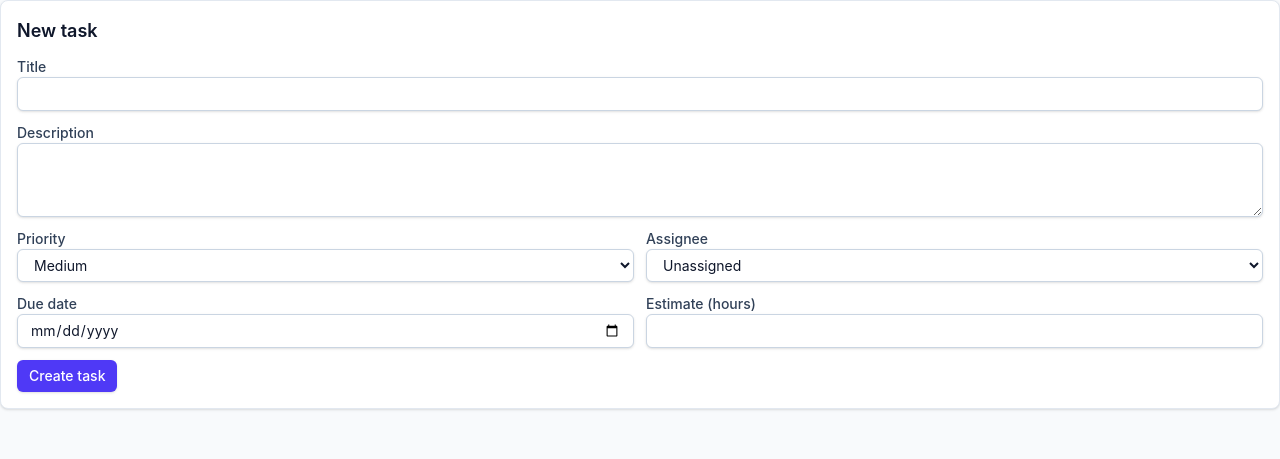
Test: CreateTaskForm validation › clears old errors once the input is valid
Click the button "Create task".
click(67, 376)  # box [17,360,118,392]
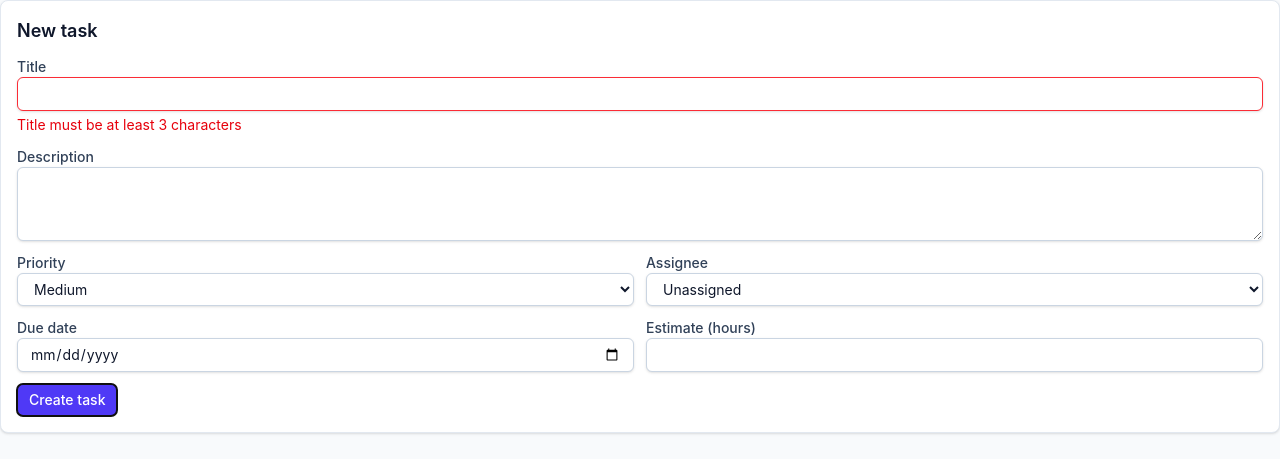
Check: the text "Title must be at least 3 characters" is shown, box [17,116,242,133]
Type "Valid title" into the field labelled "Title".
click(640, 94); type("Valid title")  # box [17,77,1263,111]
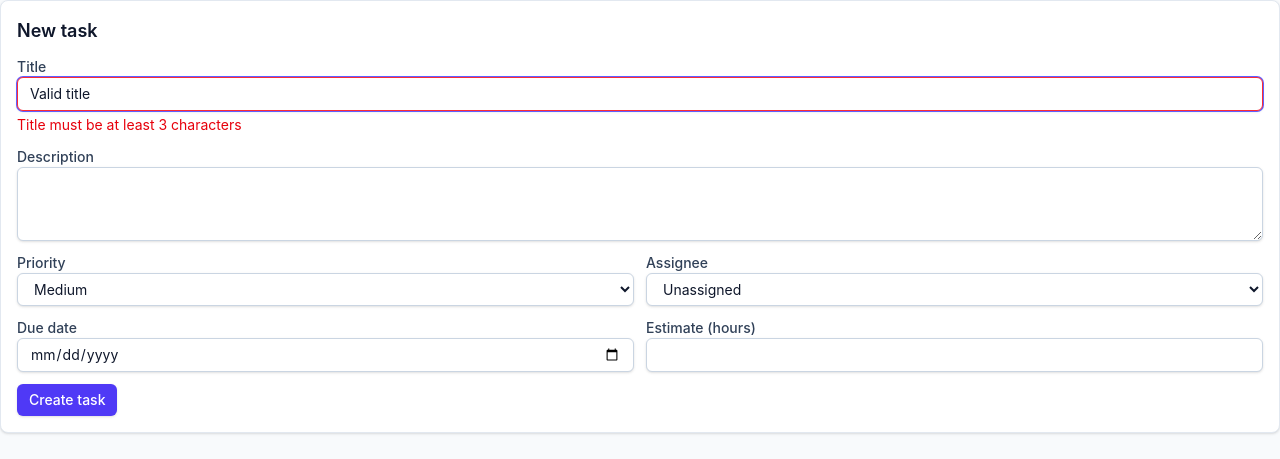
Click the button "Create task".
click(67, 400)  # box [17,384,118,416]
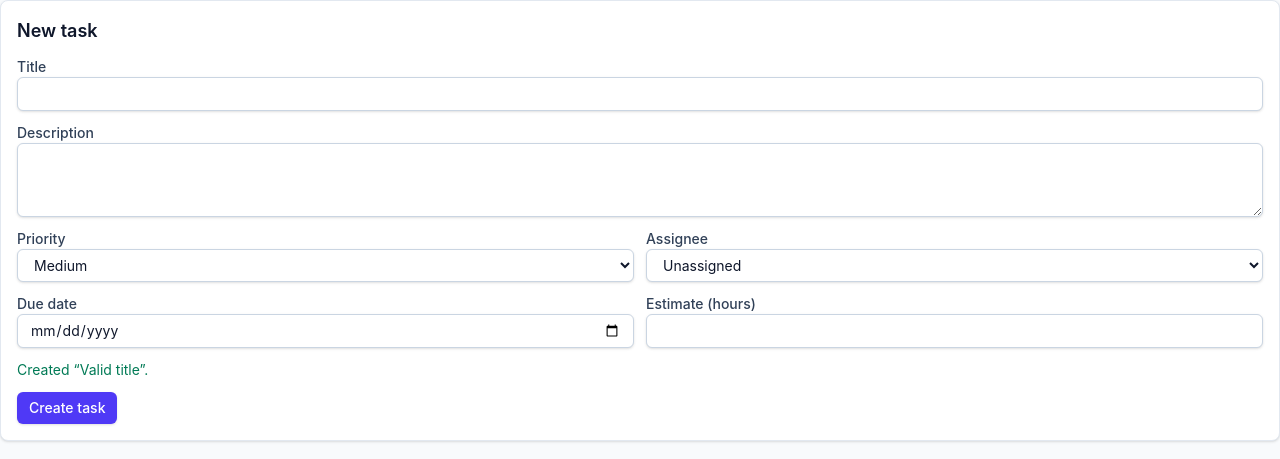
Check: the message reads "Created “Valid title”.", box [17,361,148,378]
Check: the text "Title must be at least 3 characters" is gone
